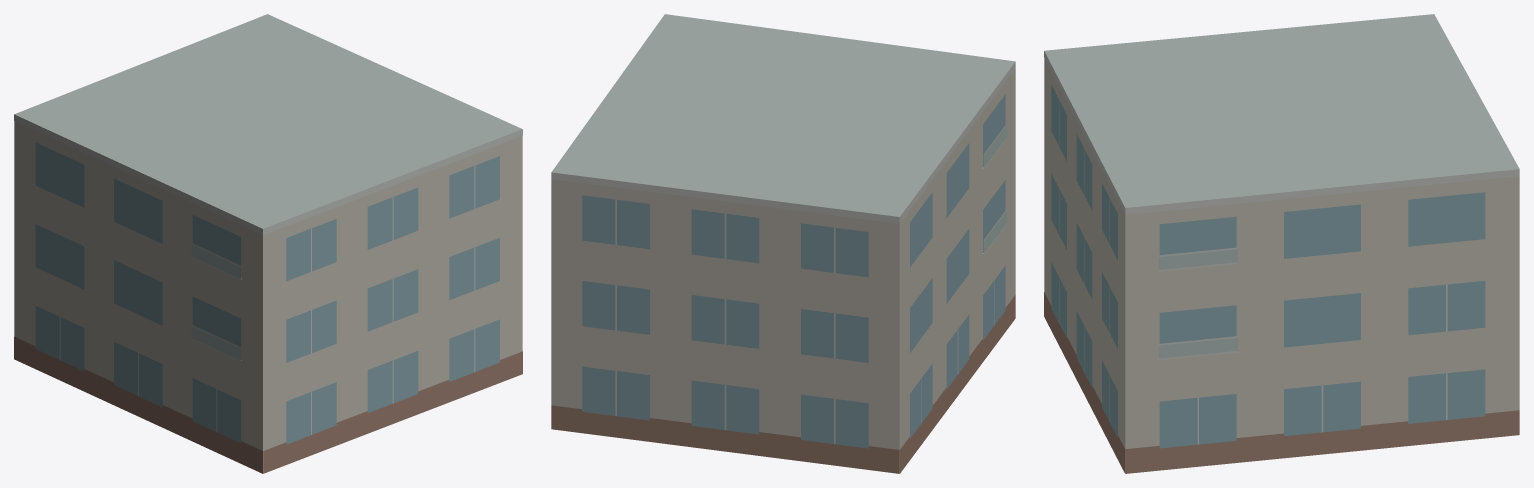
The model's file is survey-upis-32936554.glb.
3 views of the same model, side by side, from view 1: azimuth 30°, elevation 25°; view 2: azimuth 150°, elevation 25°; view 3: azimuth 270°, elevation 25° (orthographic). The views are drawn at different scales.
Visible parts, largest first — view 1: survey-upis-32936554.tmp; view 2: survey-upis-32936554.tmp; view 3: survey-upis-32936554.tmp.
Boxes of the visible parts, bbox=[...] form: survey-upis-32936554.tmp: bbox=[14, 14, 522, 473]; survey-upis-32936554.tmp: bbox=[551, 14, 1015, 473]; survey-upis-32936554.tmp: bbox=[1044, 14, 1519, 473].
Size of the model in its own units: 14.57 by 9.3 by 15.09.
